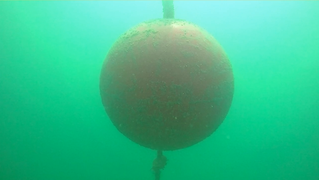bubble: (225, 135, 229, 139)
buoy: (98, 18, 234, 151)
